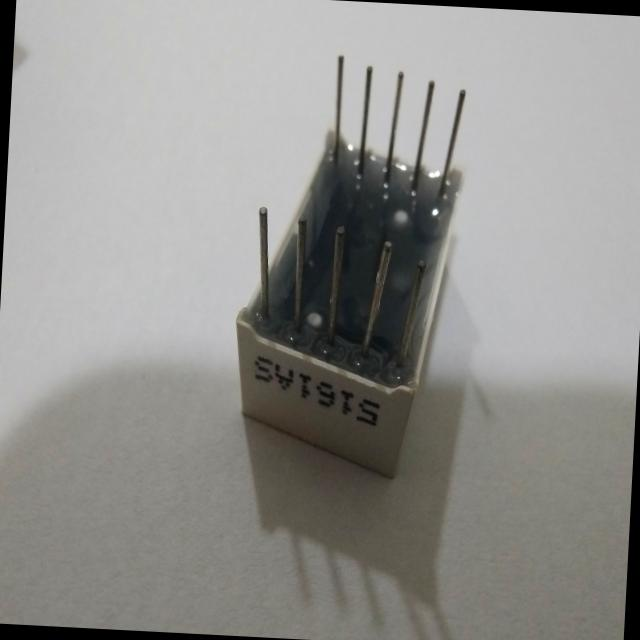7_segments: (201, 41, 484, 482)
